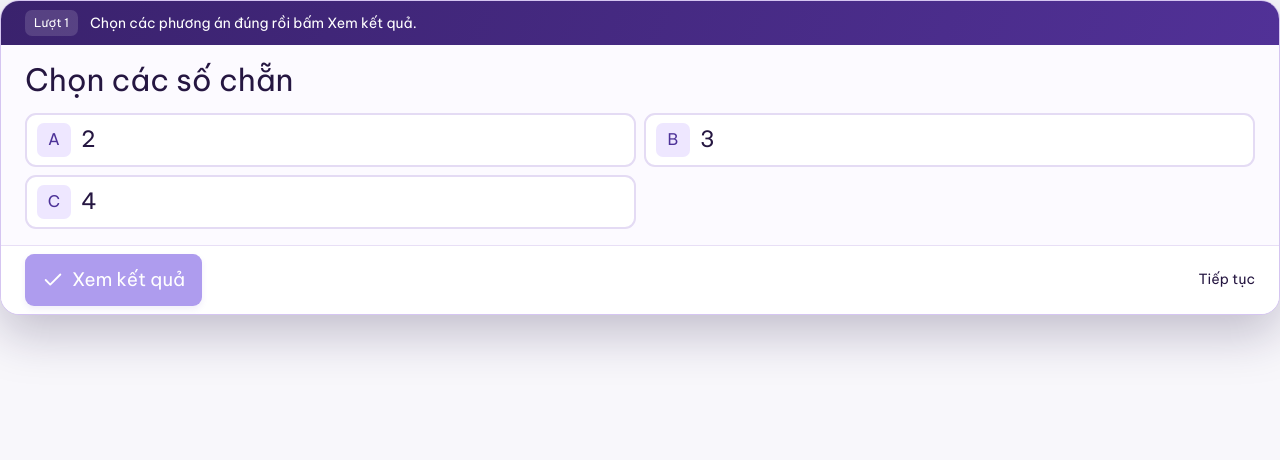
Test: auto-grades the selected options [0] only after confirmation
Expected: the button "Xem kết quả" is disabled, [25,254,202,306]
Click the button "A 2" at (54,140), box [25,112,636,166]
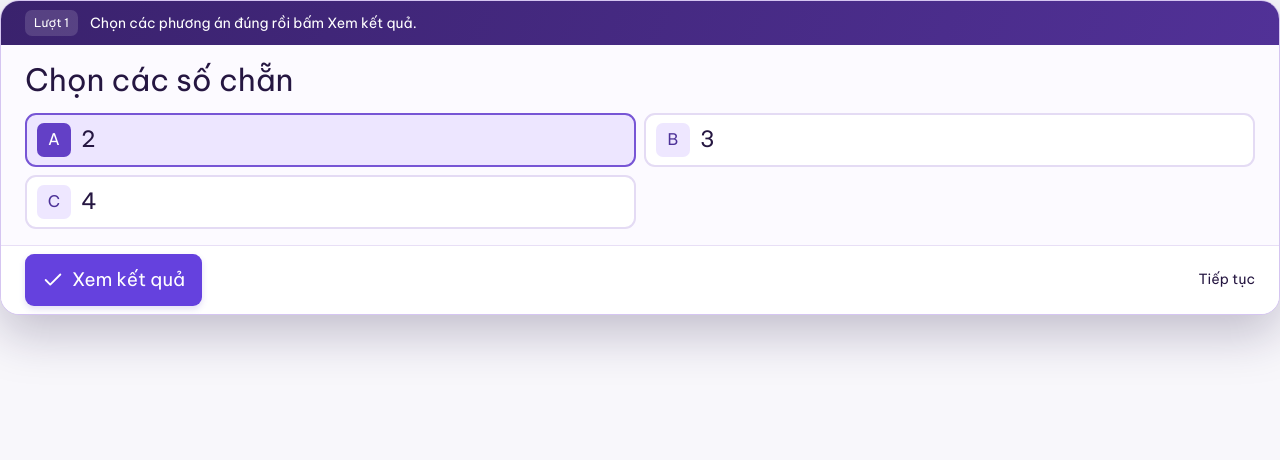
Expected: the button "Xem kết quả" is enabled
Click the button "Xem kết quả" at (114,280), box [25,254,202,306]
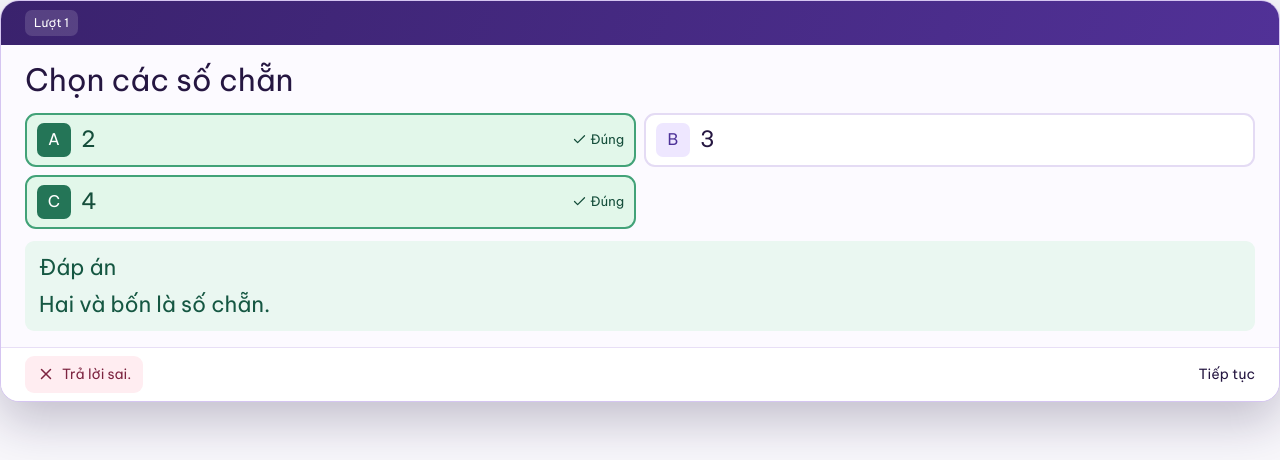
Expected: the message reads "Trả lời sai.", [62,365,131,383]
Expected: the text "Đúng" is shown 2 times, [572,131,624,148]; [572,193,624,210]
Expected: the text "Hai và bốn là số chẵn." is shown, [39,290,270,318]
